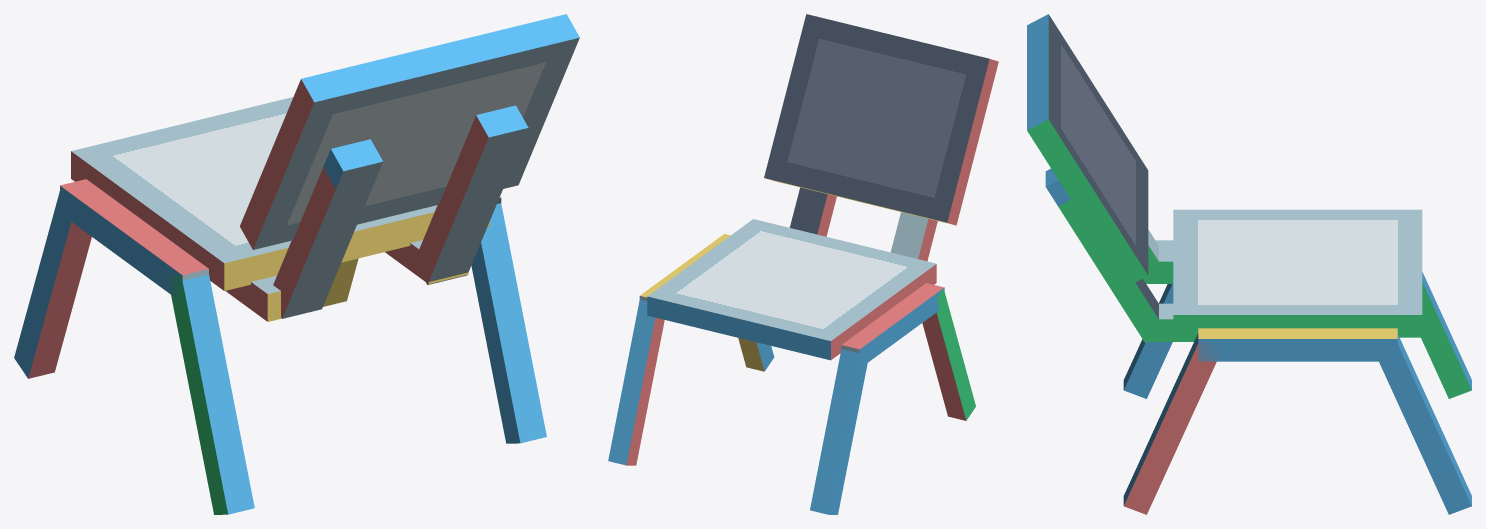
File: chair.gltf
The picture shows the model from 3 angles, left to right: view 1: azimuth 30°, elevation 25°; view 2: azimuth 150°, elevation 25°; view 3: azimuth 270°, elevation 25°; orthographic projection. The views are drawn at different scales.
Visible parts, largest first — view 1: cube-col (×11); view 2: cube-col (×10); view 3: cube-col (×10).
Part boxes in pixels (<box>): cube-col (×11): <box>14,14,579,514</box>; cube-col (×10): <box>608,14,998,514</box>; cube-col (×10): <box>1027,14,1471,514</box>.
Bounding box in the file's own units: 0.75 × 1.07 × 1.12.
Materials: 2 (2 with a texture image).
